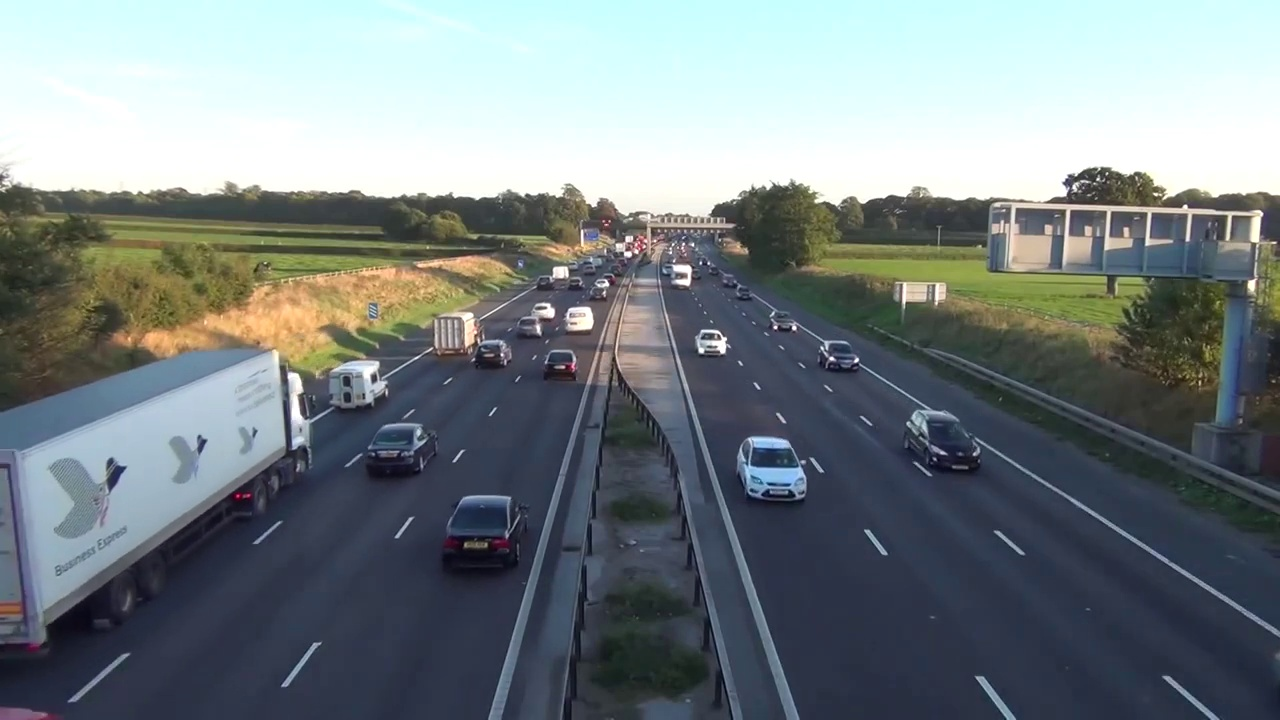bus: (441, 495, 531, 575), (903, 408, 986, 473), (735, 436, 810, 501), (366, 423, 439, 475), (326, 360, 389, 411), (434, 312, 484, 358), (816, 339, 861, 374), (543, 349, 577, 382), (475, 339, 514, 367), (693, 328, 729, 357), (564, 305, 594, 333), (767, 308, 797, 333), (517, 316, 543, 339), (532, 302, 555, 319)
car: (0, 350, 318, 661)
